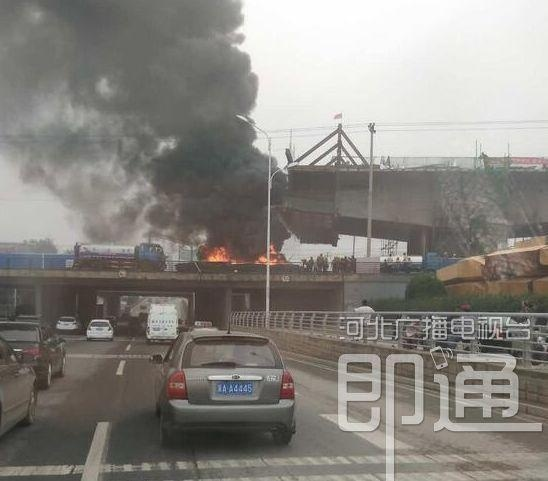fire: (204, 241, 272, 267), (205, 244, 234, 264), (256, 245, 282, 265)
